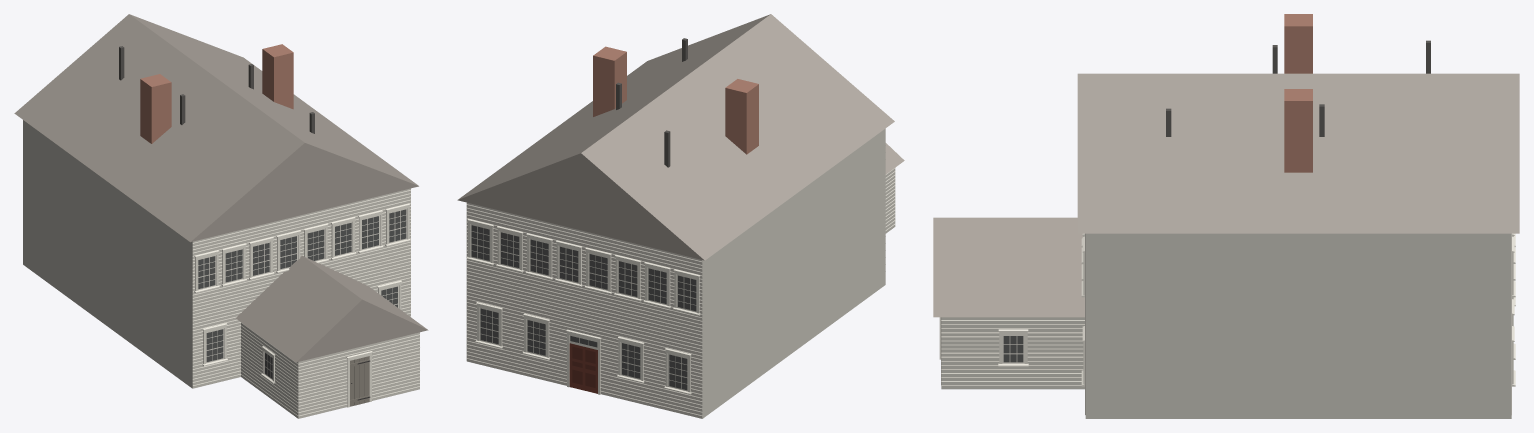
File: recon_1835_blk_indiana_north_cass_h3_09__inferred_1835.glb
The picture shows the model from 3 angles, left to right: view 1: azimuth 30°, elevation 25°; view 2: azimuth 150°, elevation 25°; view 3: azimuth 270°, elevation 25°; orthographic projection. The views are drawn at different scales.
Parts seen in each view (by area): view 1: recon_1835_blk_indiana_north_cass_h3_09__inferred_1835; view 2: recon_1835_blk_indiana_north_cass_h3_09__inferred_1835; view 3: recon_1835_blk_indiana_north_cass_h3_09__inferred_1835.
Boxes of the visible parts, box(x1,y1,x2,y2) form: recon_1835_blk_indiana_north_cass_h3_09__inferred_1835: box(14, 14, 428, 418); recon_1835_blk_indiana_north_cass_h3_09__inferred_1835: box(457, 14, 904, 418); recon_1835_blk_indiana_north_cass_h3_09__inferred_1835: box(933, 14, 1519, 418).
Size of the model in its own units: 10.38 by 10.14 by 18.29.
